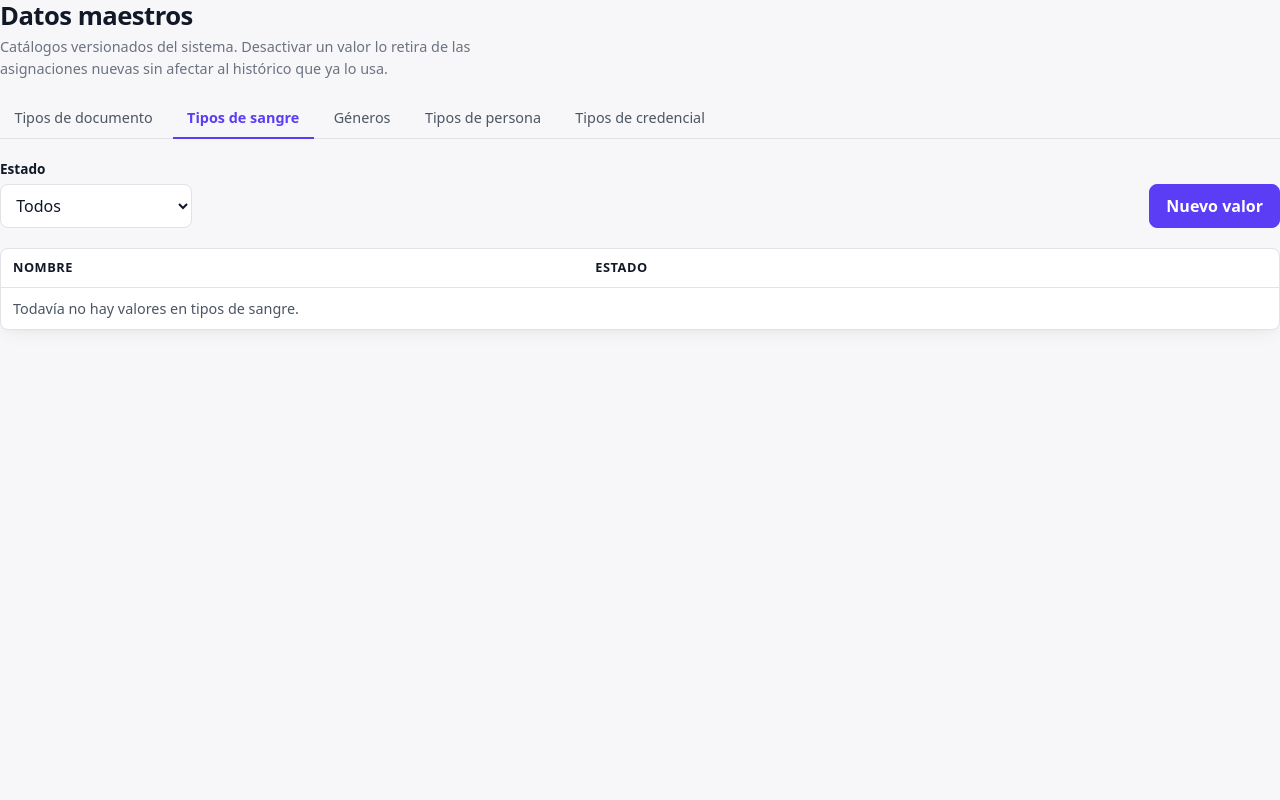
Test case: MaestrosPage › respeta el límite de longitud propio de cada catálogo
Click the button "Nuevo valor" at x=1215, y=206, box [1149,184,1279,228]
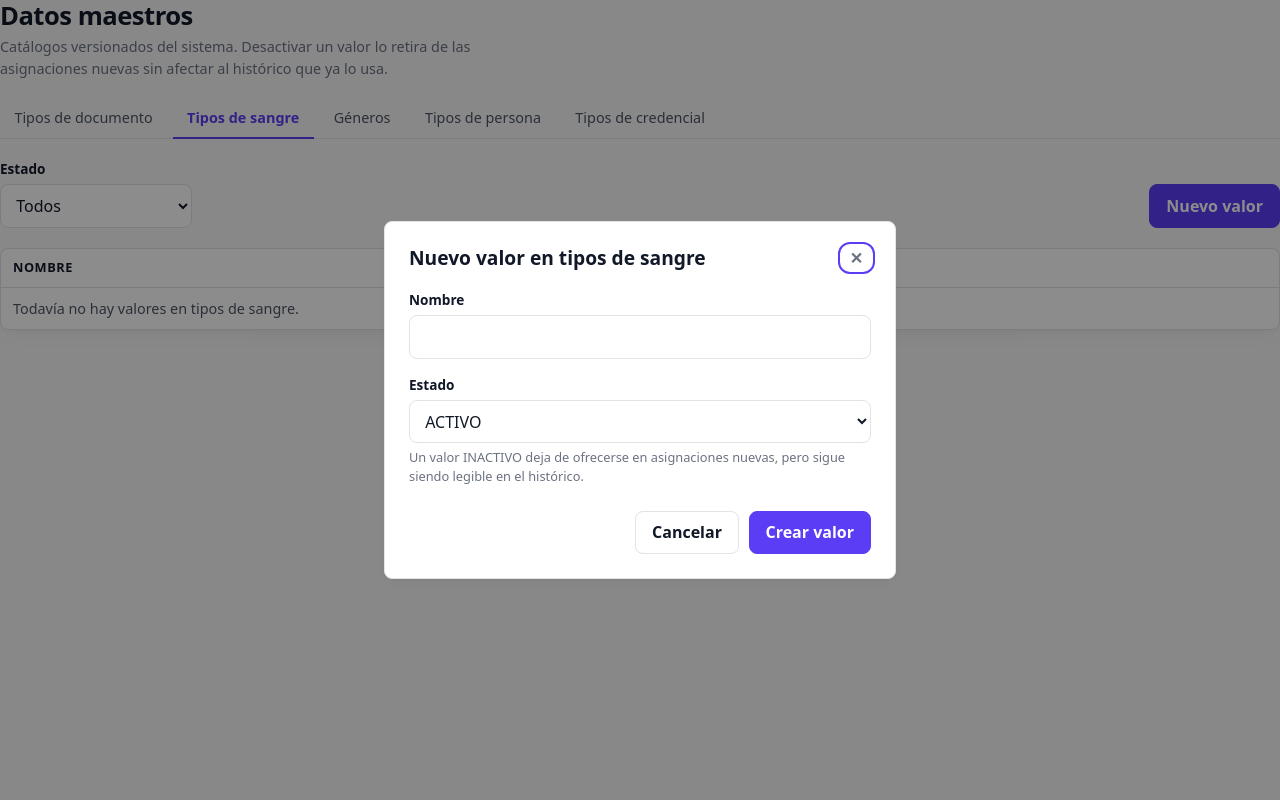
Click the button "Crear valor" at x=810, y=532, box [748,511,871,554]
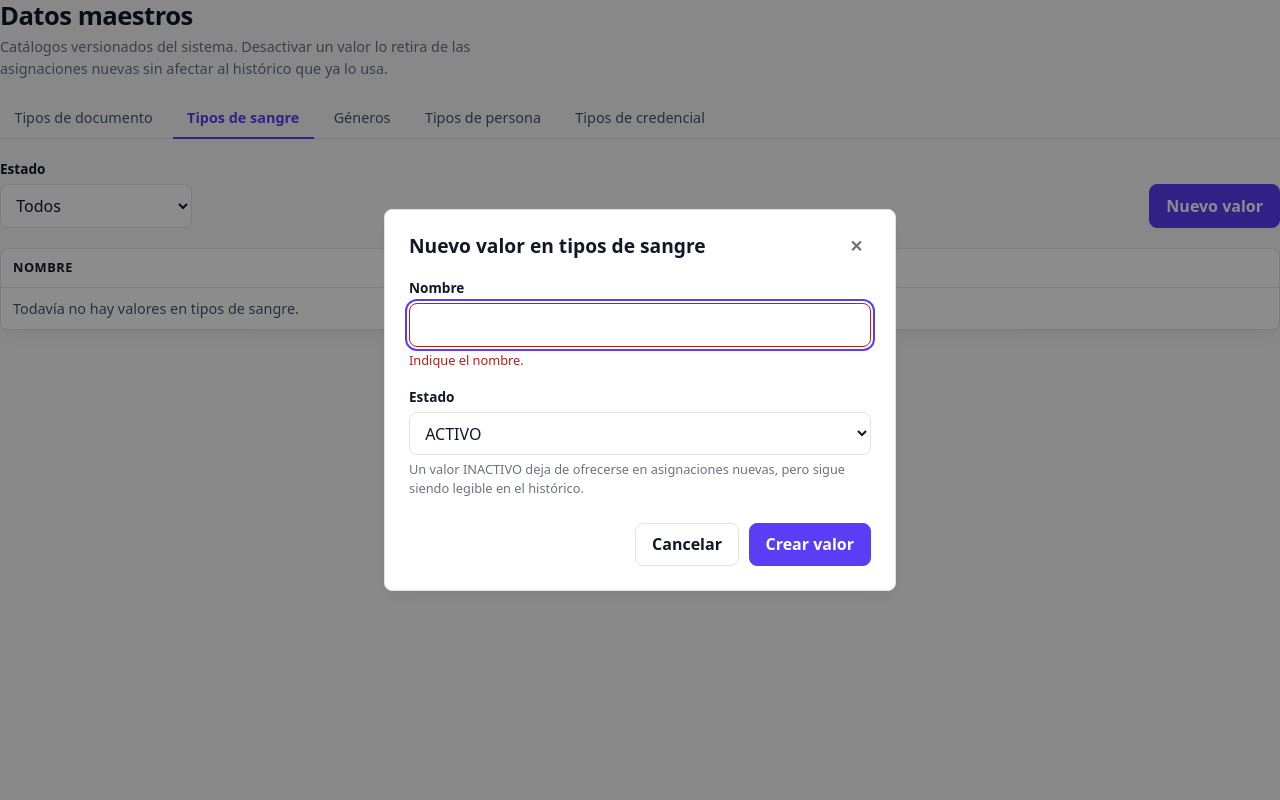
Check: the text "Indique el nombre." is shown, box [409,351,524,369]
